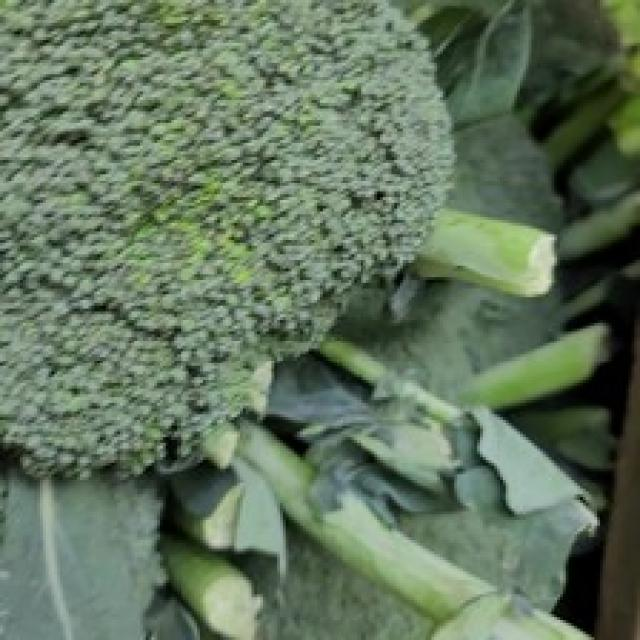Broccoli: (0, 0, 452, 476), (0, 2, 452, 476)
